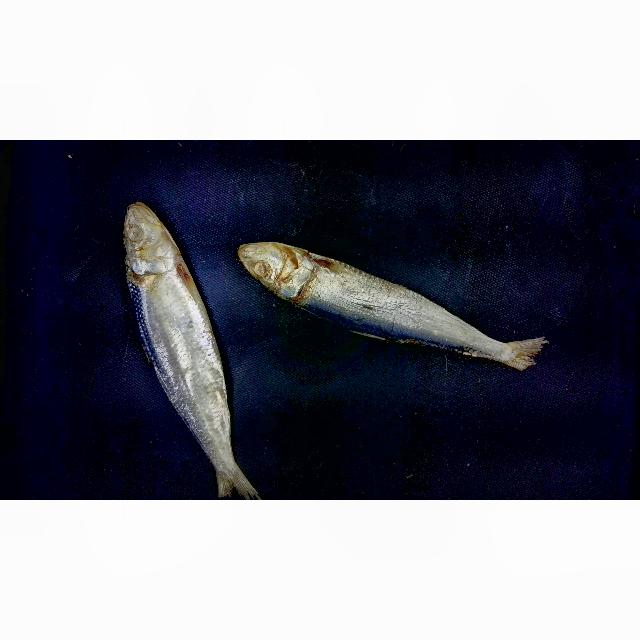Grade_A_Body: (119, 287, 246, 413), (317, 245, 437, 370)
Grade_A_Head: (98, 197, 214, 278), (230, 226, 313, 307)
Grade_A_Tail: (447, 296, 565, 393), (168, 416, 282, 500)
